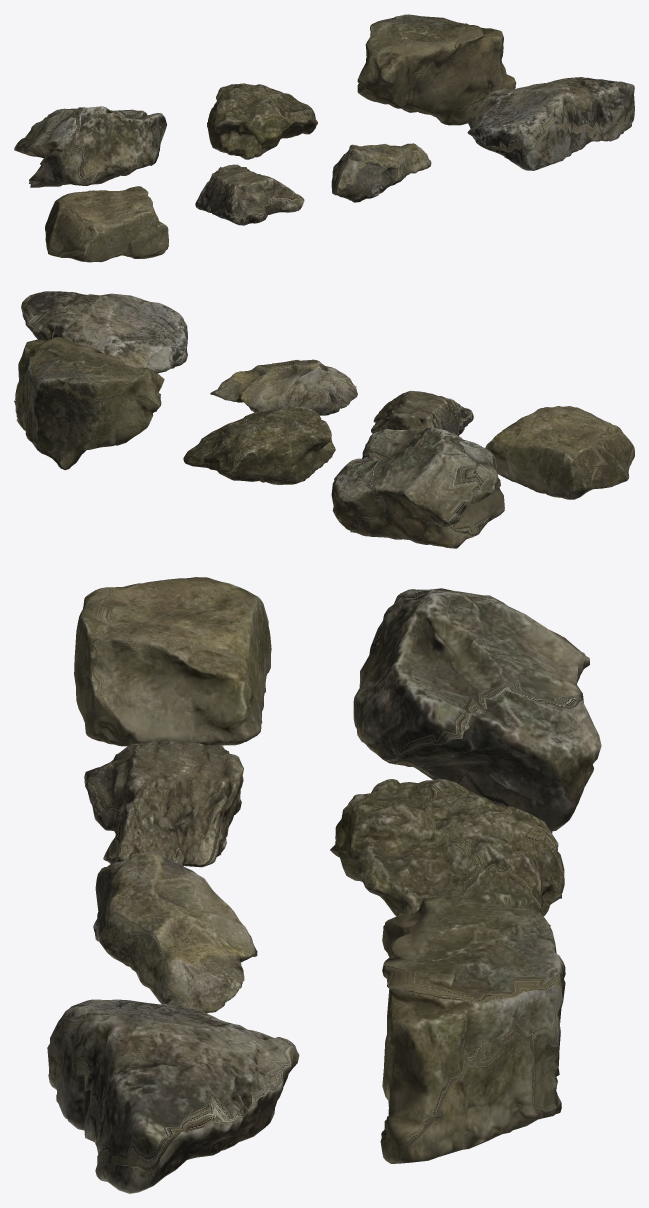
Rendered from rock_moss_set_02.glb.
3 renders of one model, top to bottom at view 1: azimuth 30°, elevation 25°; view 2: azimuth 150°, elevation 25°; view 3: azimuth 270°, elevation 25°, orthographic. The views are drawn at different scales.
Visible parts, largest first — view 1: rock_moss_set_02_rock13, rock_moss_set_02_rock10, rock_moss_set_02_rock11, rock_moss_set_02_rock07, rock_moss_set_02_rock12, rock_moss_set_02_rock08, rock_moss_set_02_rock09; view 2: rock_moss_set_02_rock11, rock_moss_set_02_rock13, rock_moss_set_02_rock07, rock_moss_set_02_rock10, rock_moss_set_02_rock12, rock_moss_set_02_rock09, rock_moss_set_02_rock08; view 3: rock_moss_set_02_rock13, rock_moss_set_02_rock11, rock_moss_set_02_rock10, rock_moss_set_02_rock07, rock_moss_set_02_rock12, rock_moss_set_02_rock09, rock_moss_set_02_rock08.
Boxes of the visible parts, left/top/right/bottom form: rock_moss_set_02_rock13: left=357, top=14, right=516, bottom=125; rock_moss_set_02_rock10: left=467, top=77, right=634, bottom=170; rock_moss_set_02_rock11: left=14, top=106, right=166, bottom=187; rock_moss_set_02_rock07: left=45, top=186, right=168, bottom=262; rock_moss_set_02_rock12: left=207, top=83, right=317, bottom=159; rock_moss_set_02_rock08: left=195, top=164, right=304, bottom=225; rock_moss_set_02_rock09: left=331, top=143, right=431, bottom=202; rock_moss_set_02_rock11: left=331, top=427, right=504, bottom=548; rock_moss_set_02_rock13: left=14, top=337, right=164, bottom=470; rock_moss_set_02_rock07: left=485, top=406, right=634, bottom=499; rock_moss_set_02_rock10: left=21, top=291, right=187, bottom=373; rock_moss_set_02_rock12: left=183, top=406, right=335, bottom=484; rock_moss_set_02_rock09: left=210, top=359, right=357, bottom=415; rock_moss_set_02_rock08: left=371, top=390, right=473, bottom=435; rock_moss_set_02_rock13: left=380, top=895, right=565, bottom=1163; rock_moss_set_02_rock11: left=353, top=588, right=601, bottom=833; rock_moss_set_02_rock10: left=47, top=999, right=299, bottom=1193; rock_moss_set_02_rock07: left=74, top=577, right=271, bottom=746; rock_moss_set_02_rock12: left=330, top=779, right=564, bottom=926; rock_moss_set_02_rock09: left=93, top=851, right=257, bottom=1013; rock_moss_set_02_rock08: left=84, top=741, right=243, bottom=867.
Bounding box in the file's own units: 8.28 × 1.37 × 3.41.
Materials: 1 (1 with a texture image).
